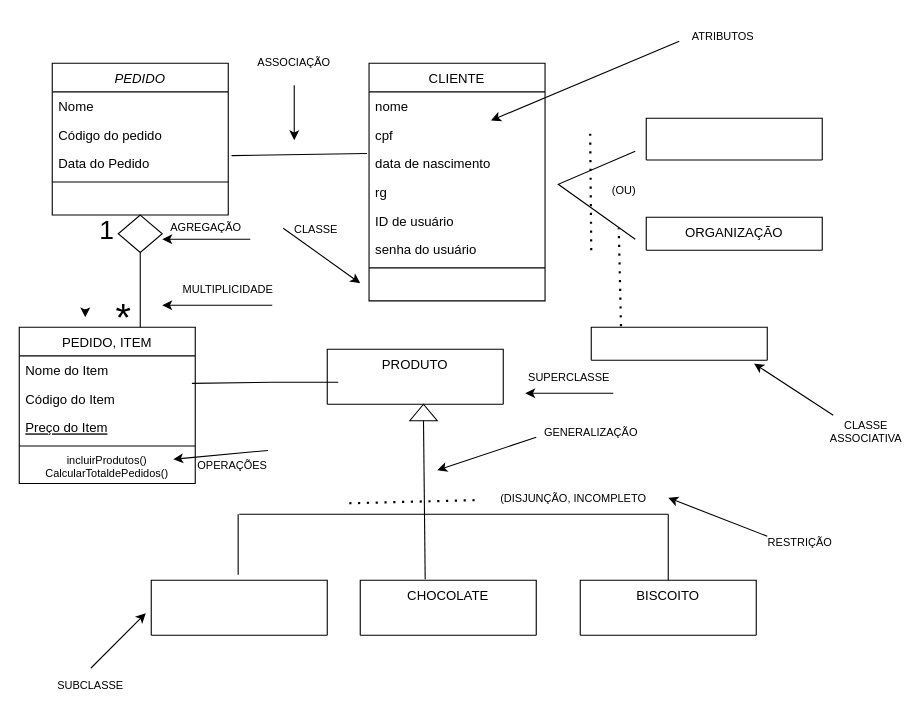
This 921x719 diagram has some shape labels left out. The centre of each missing label's shape, as x and y in pixels:
"INDIVÍDUO" belongs at (733,138).
"LEITE" belongs at (238,607).
"ORGANIZAÇÃO CLIENTE" belongs at (678,343).
